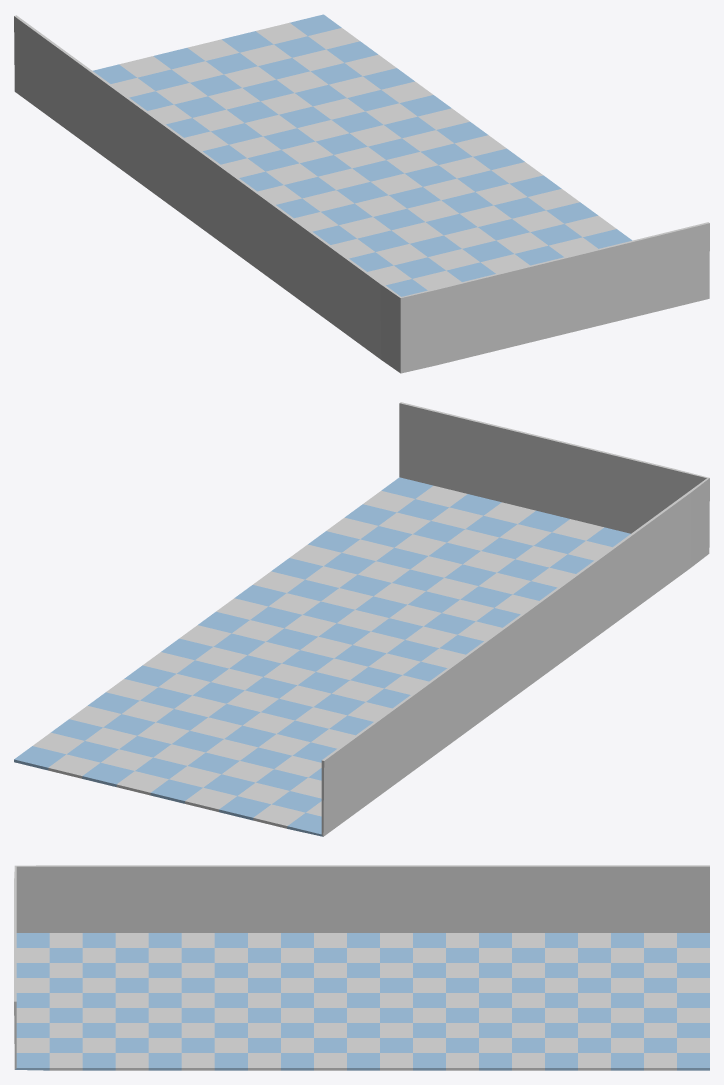
Rendered from supermarket floor.fbx.
The picture shows the model from 3 angles, top to bottom: view 1: azimuth 30°, elevation 25°; view 2: azimuth 150°, elevation 25°; view 3: azimuth 270°, elevation 25°; orthographic projection. The views are drawn at different scales.
Parts seen in each view (by area): view 1: Floor; view 2: Floor; view 3: Floor.
Part boxes in pixels (box(x1,y1,x2,y2)): Floor: box(14, 14, 709, 373); Floor: box(14, 402, 709, 836); Floor: box(14, 865, 709, 1070).
Size of the model in its own units: 2865 by 678 by 6191.
